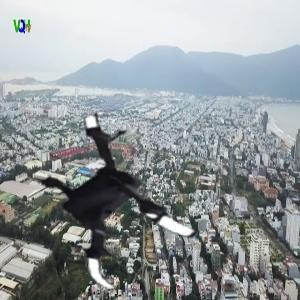drone: (10, 97, 208, 295)
